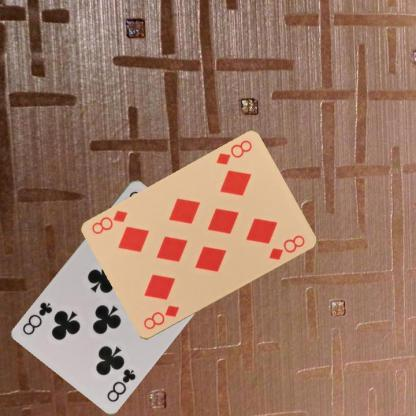8c: (104, 366, 137, 403)
8d: (140, 303, 181, 331), (213, 138, 254, 166)
